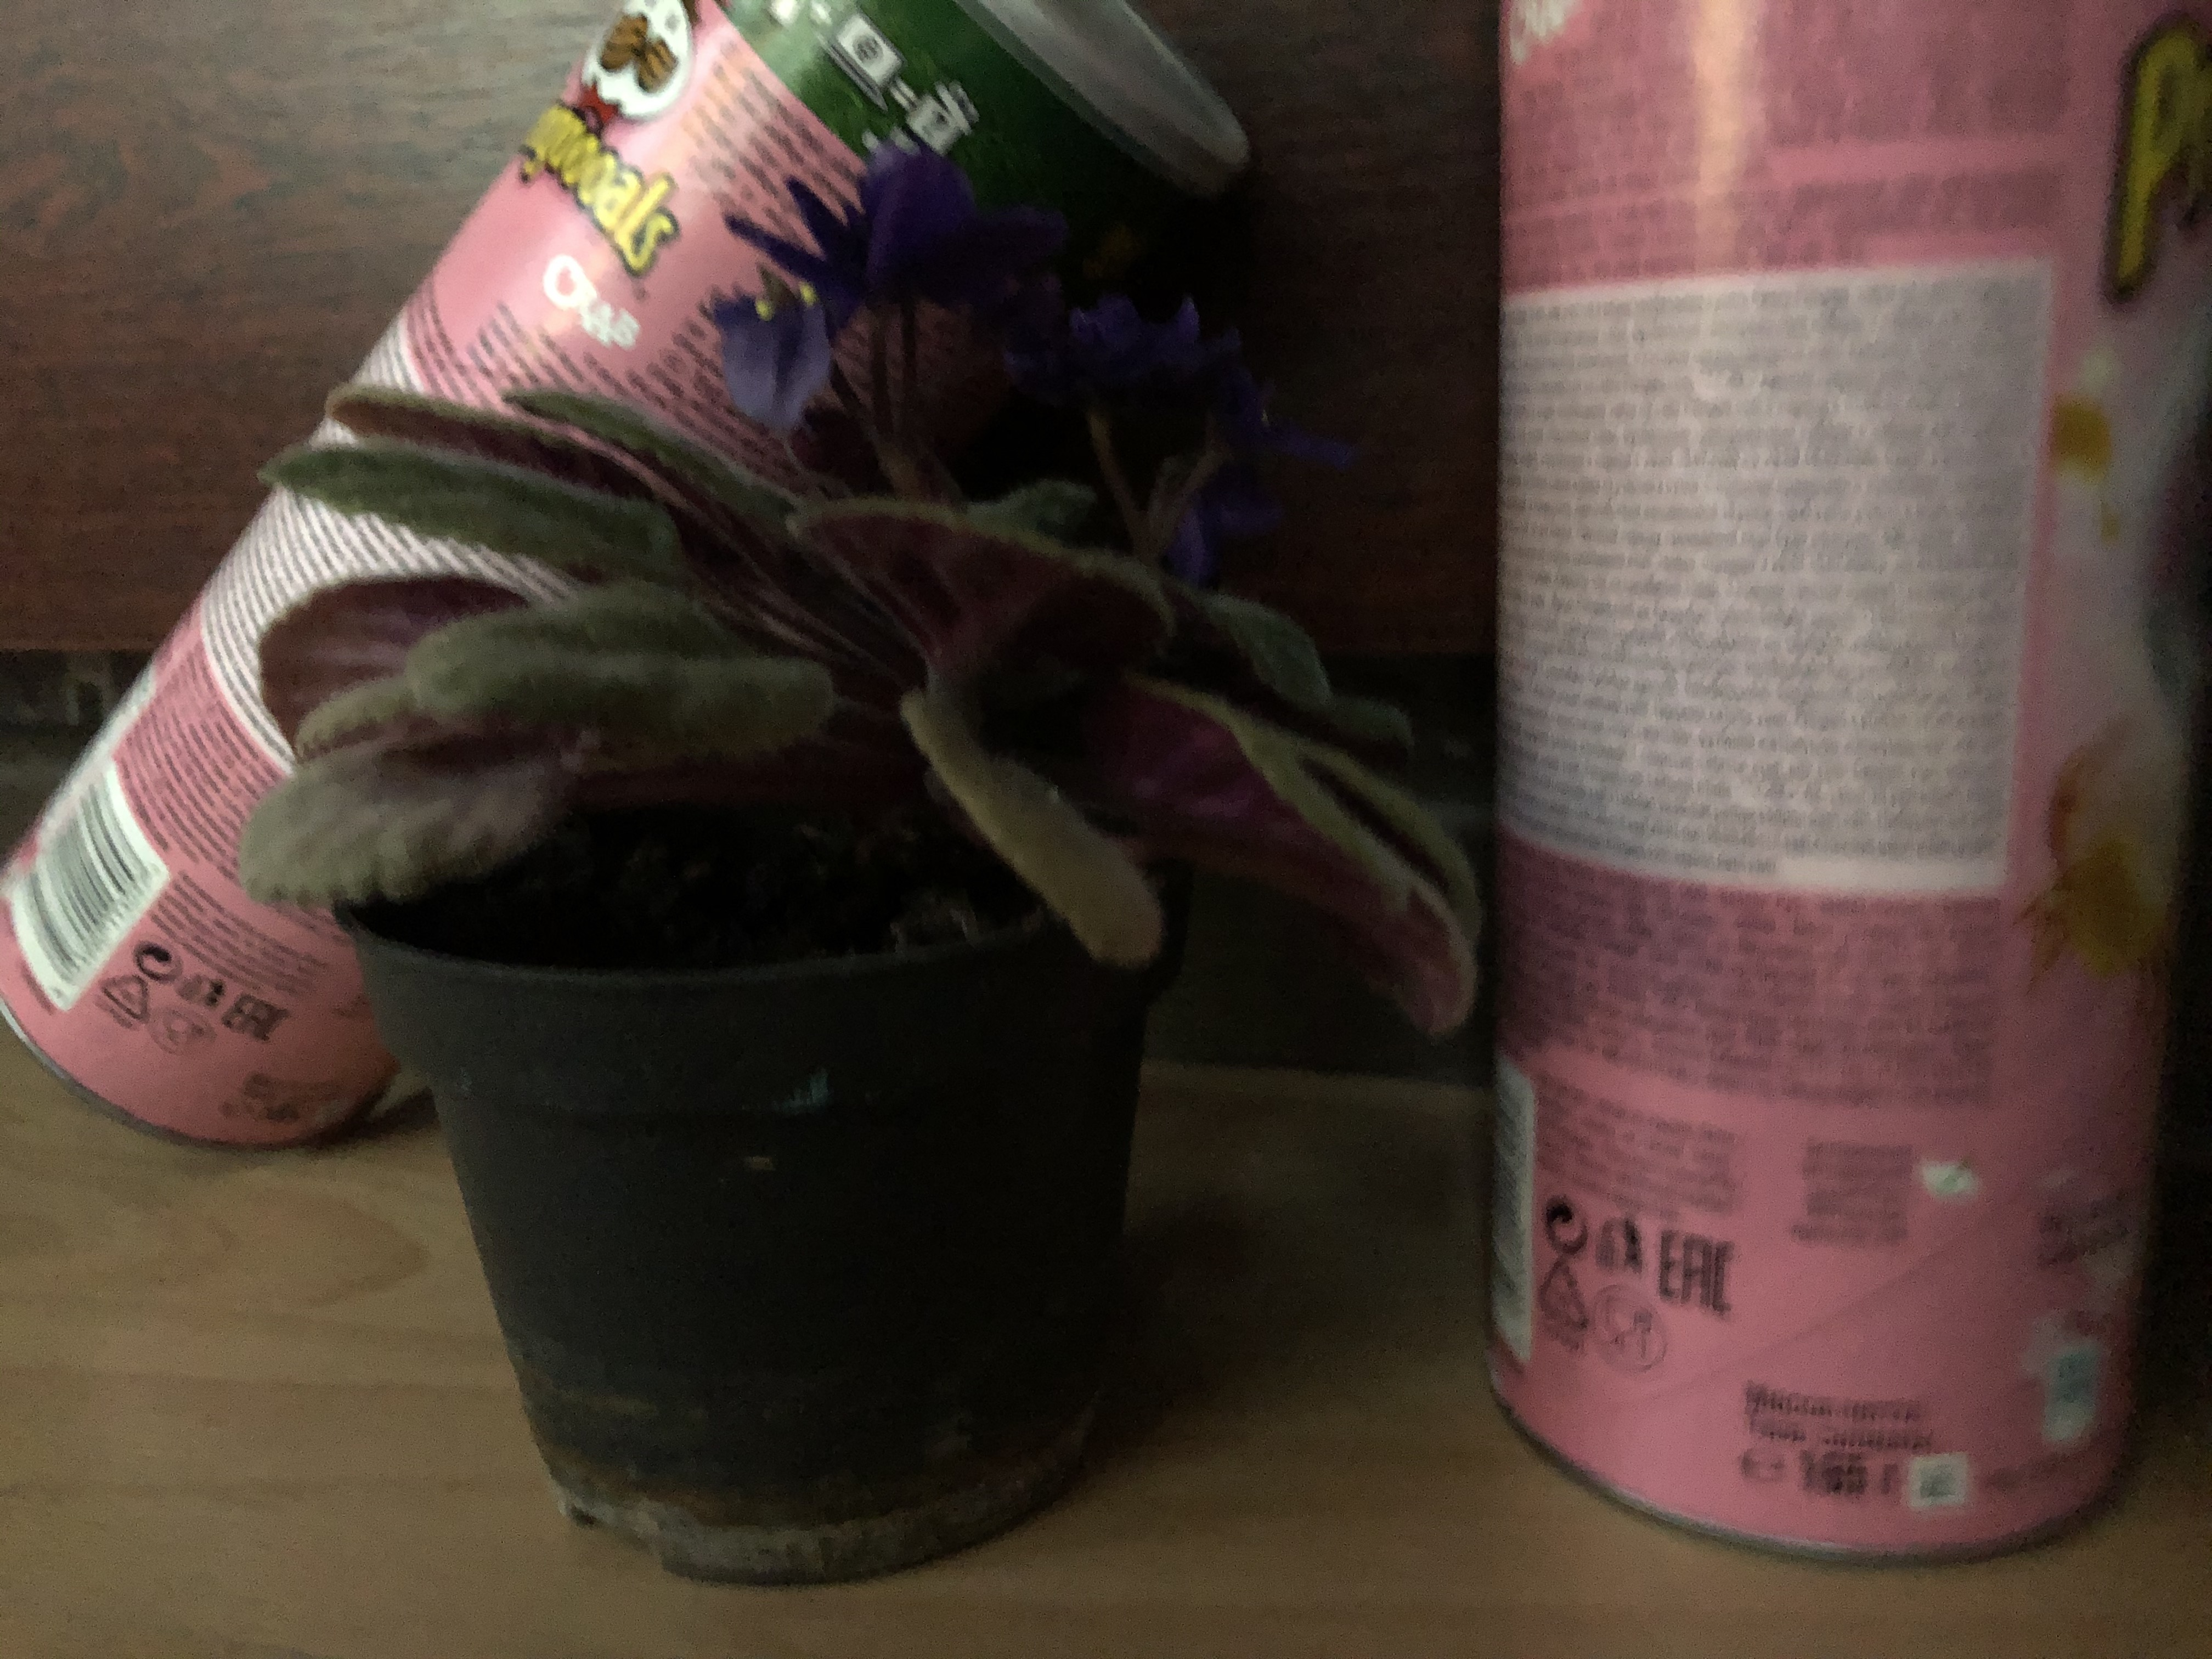ignore: (204, 136, 1510, 1065)
